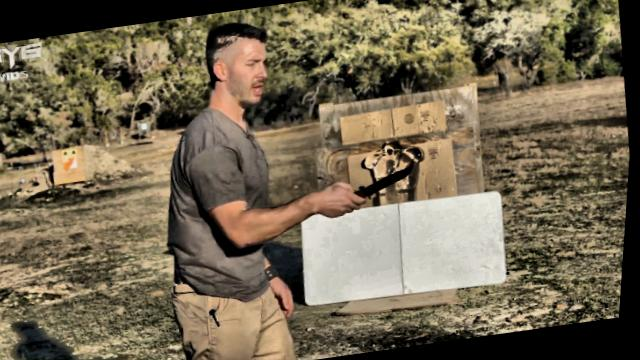knife: (316, 158, 428, 221)
